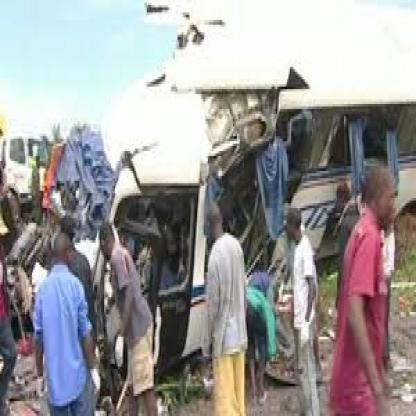accident: (56, 115, 416, 323)
